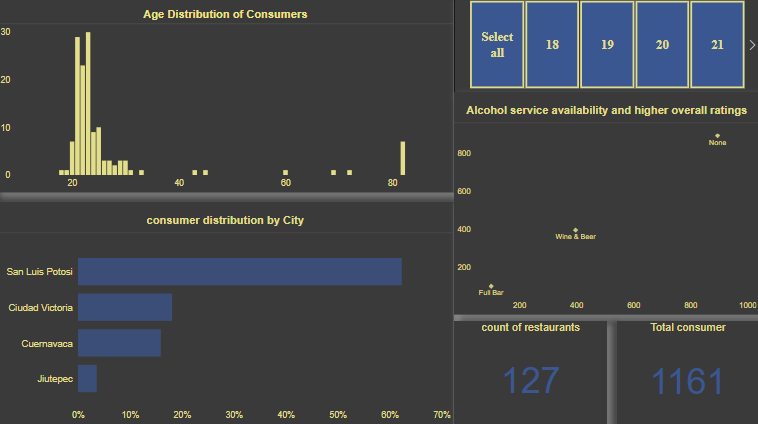

The dashboard page shown, as its layout file describes it:
{"tool":"powerbi","page":{"name":"Page 4","canvas":[1280,720],"ordinal":4},"visuals":[{"type":"clusteredColumnChart","title":"Age Distribution of Consumers","fields":{"Category":["consumers.Age"],"Y":["CountNonNull(consumers.Age)"]},"box":[0,0,767,329.7],"z":0},{"type":"slicer","fields":{"Values":["consumers.Age"]},"box":[767,0,513,163.2],"z":1000},{"type":"clusteredBarChart","title":"                                   consumer distribution by City","fields":{"Category":["consumers.City"],"Y":["CountNonNull(consumers.Consumer ID)"]},"box":[0,346.5,767,373.4],"z":2000},{"type":"scatterChart","title":"Alcohol service availability and higher overall ratings","fields":{"Category":["the restaurants.restaurants.Alcohol Service"],"X":["Sum(the restaurants.Overall Rating)"],"Y":["Sum(the restaurants.Overall Rating)"]},"box":[766.9,160.4,513.1,373.8],"z":3000},{"type":"card","title":"count of restaurants ","fields":{"Values":["Count(the restaurants.restaurants.Name)"]},"box":[766.9,546.6,257.4,172.8],"z":4000},{"type":"card","title":"Total consumer ","fields":{"Values":["the restaurants.count of consumers"]},"box":[1042,546.6,238,172.8],"z":5000}]}

Visuals, with their boxes in screenshot pixels (x1, y1, x2, y2), scaled from the page's 1280x720 canvas onto the 758x424 screenshot:
"Age Distribution of Consumers" clusteredColumnChart: l=0, t=0, r=454, b=194
slicer - consumers.Age: l=454, t=0, r=757, b=96
"                                   consumer distribution by City" clusteredBarChart: l=0, t=204, r=454, b=423
"Alcohol service availability and higher overall ratings" scatterChart: l=454, t=94, r=757, b=315
"count of restaurants " card: l=454, t=322, r=607, b=423
"Total consumer " card: l=617, t=322, r=757, b=423
